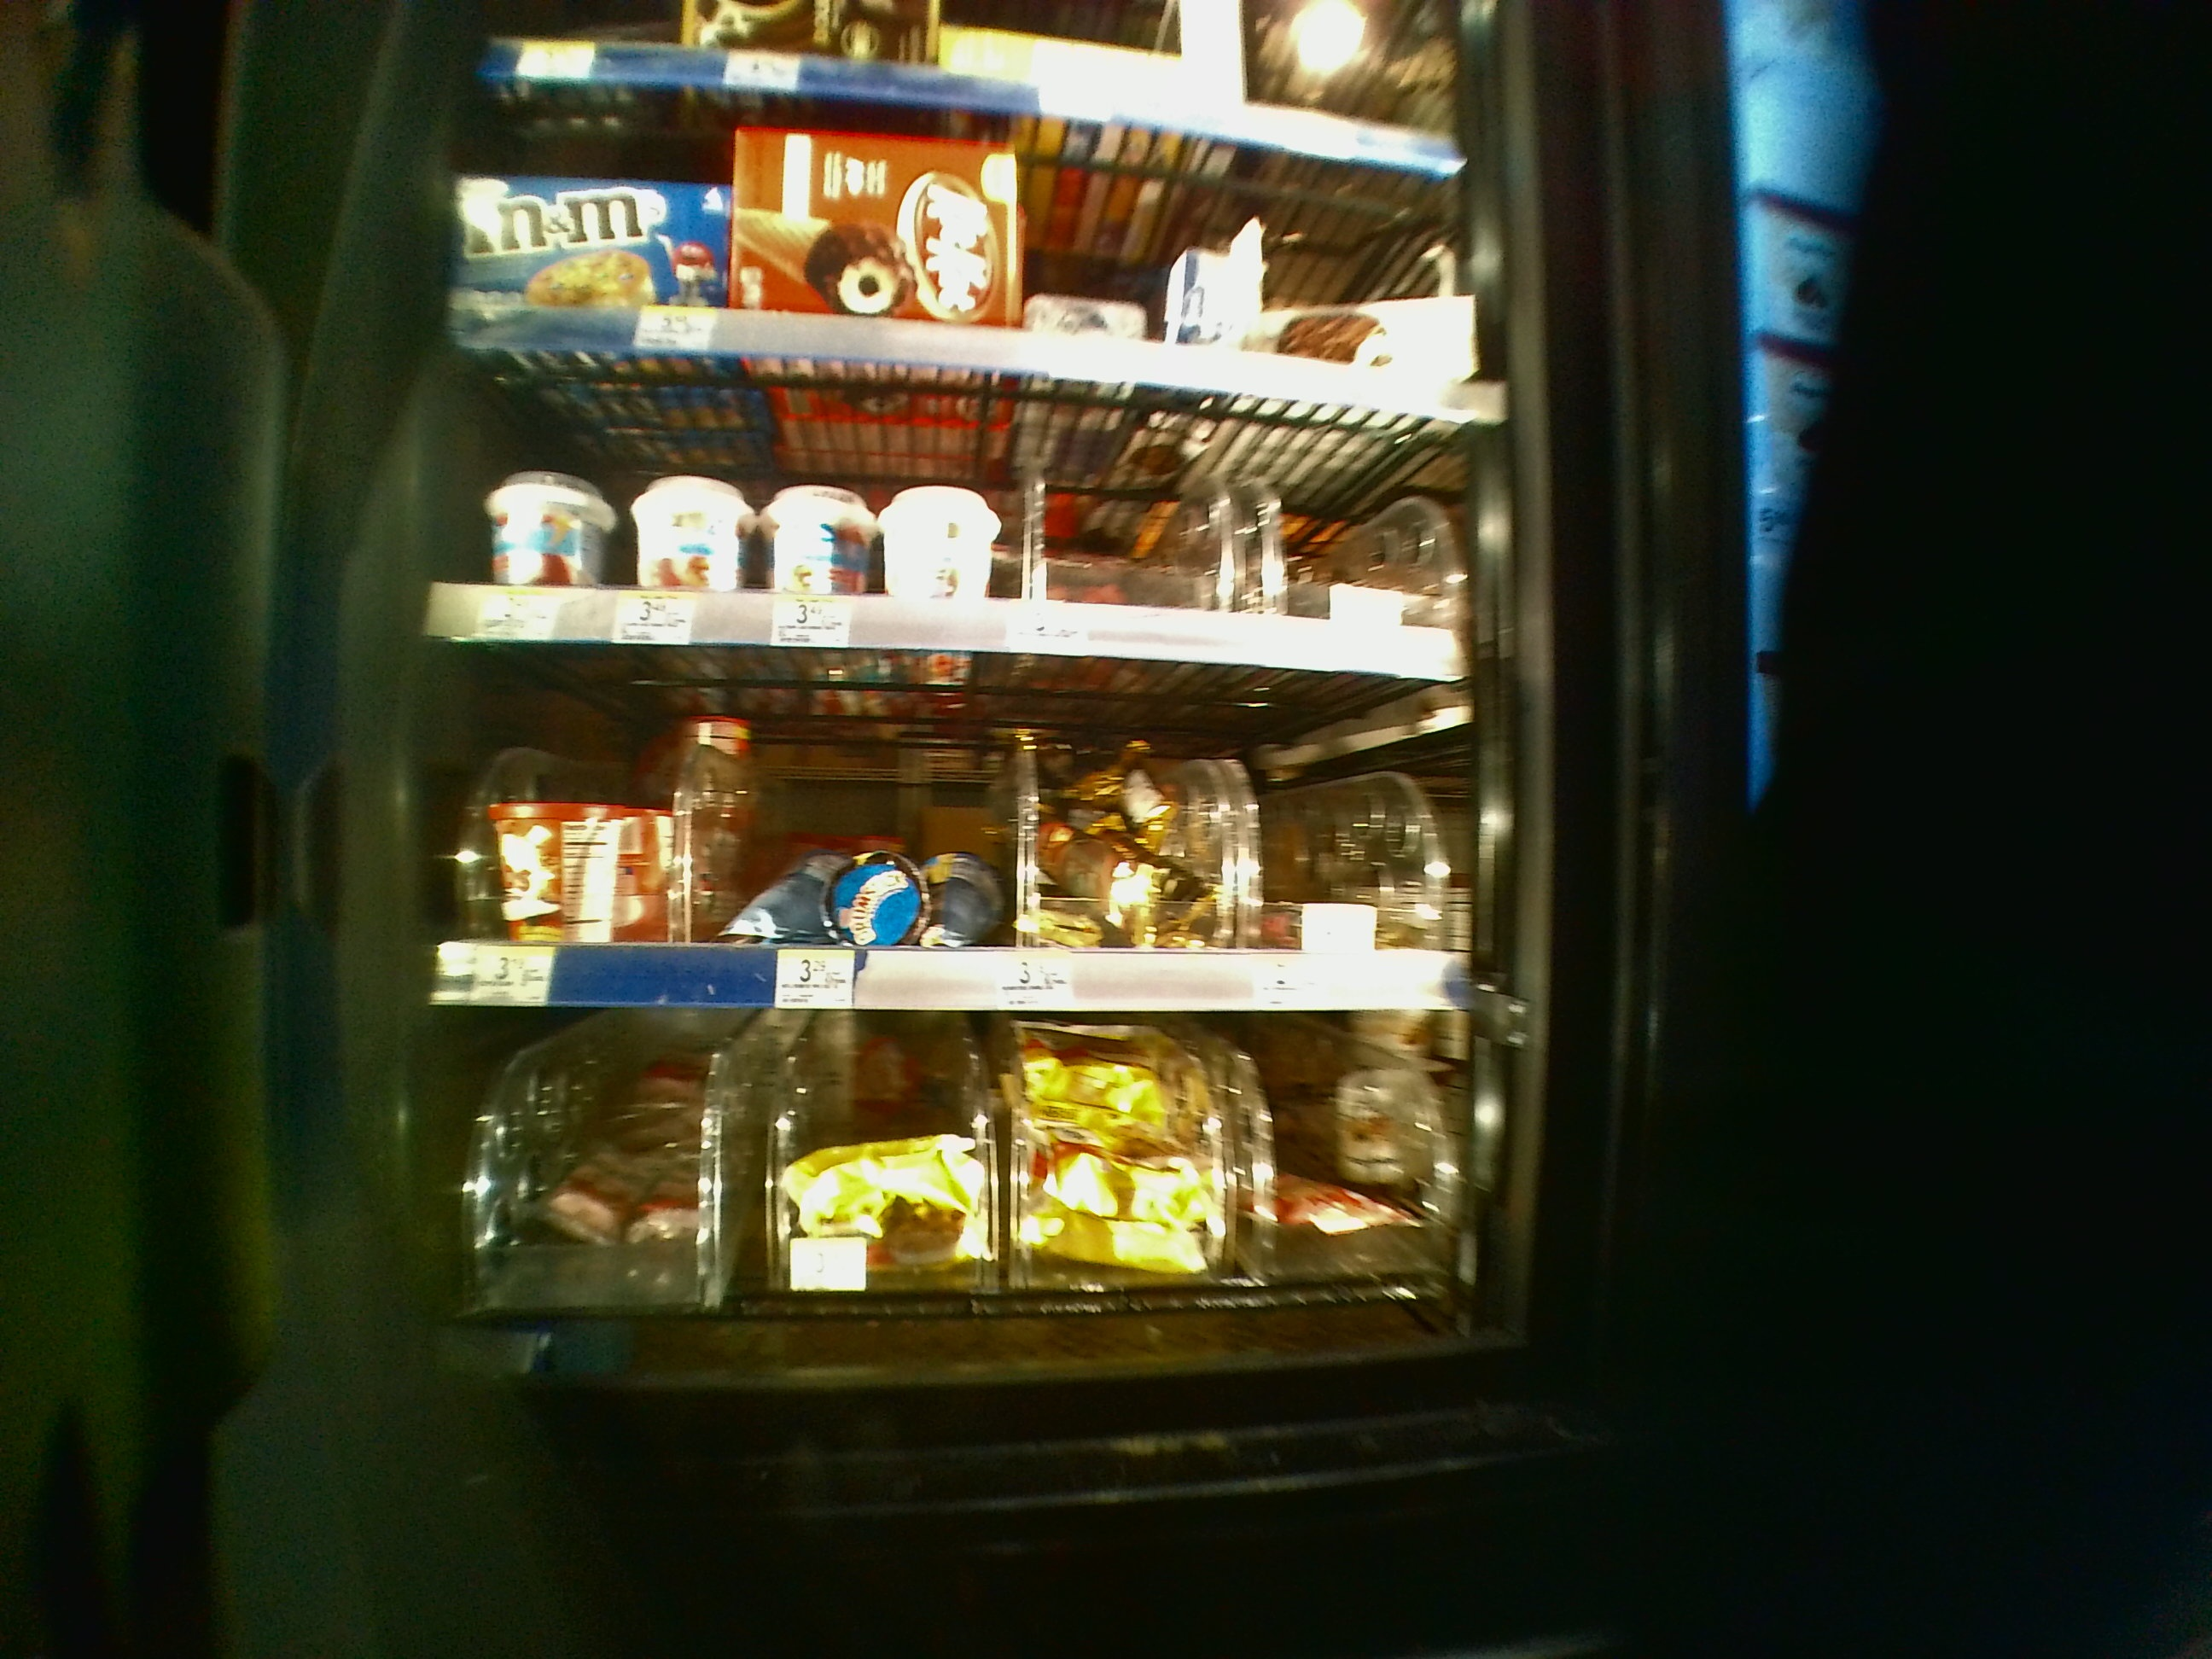shelf: (428, 648, 1508, 1007), (432, 1018, 1510, 1359), (427, 350, 1501, 638)
